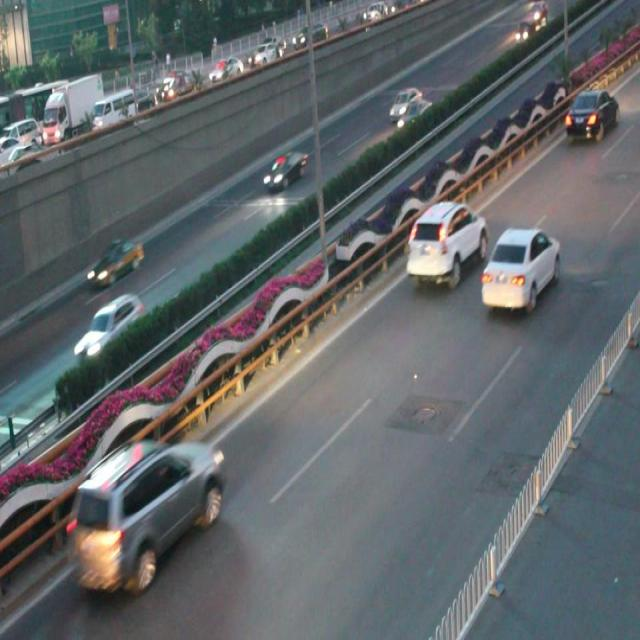car: (64, 441, 224, 592), (478, 223, 560, 309), (404, 202, 488, 284), (73, 292, 146, 356), (564, 85, 619, 145), (86, 238, 144, 284), (261, 148, 306, 192), (395, 98, 432, 133), (388, 84, 422, 117)
